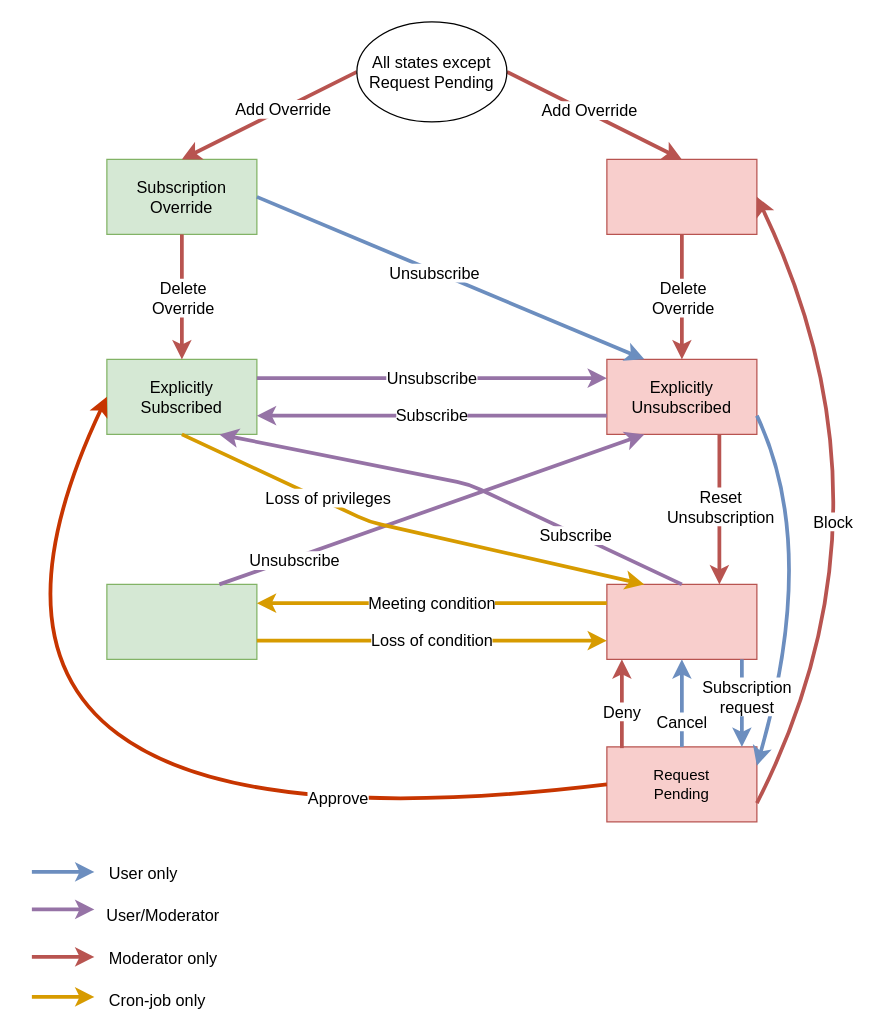
Some shapes in this 875 by 1035 pixel diagram are drawn without their labels. The shapes that lost their labels are listed below. From the top down, each one's box as (x1, y1, x2, y2) in pixels, then its label:
(606, 158, 757, 234): Unsubscription Override
(106, 583, 257, 659): Implicitly Subscribed
(606, 583, 757, 659): (Not subscribed)
